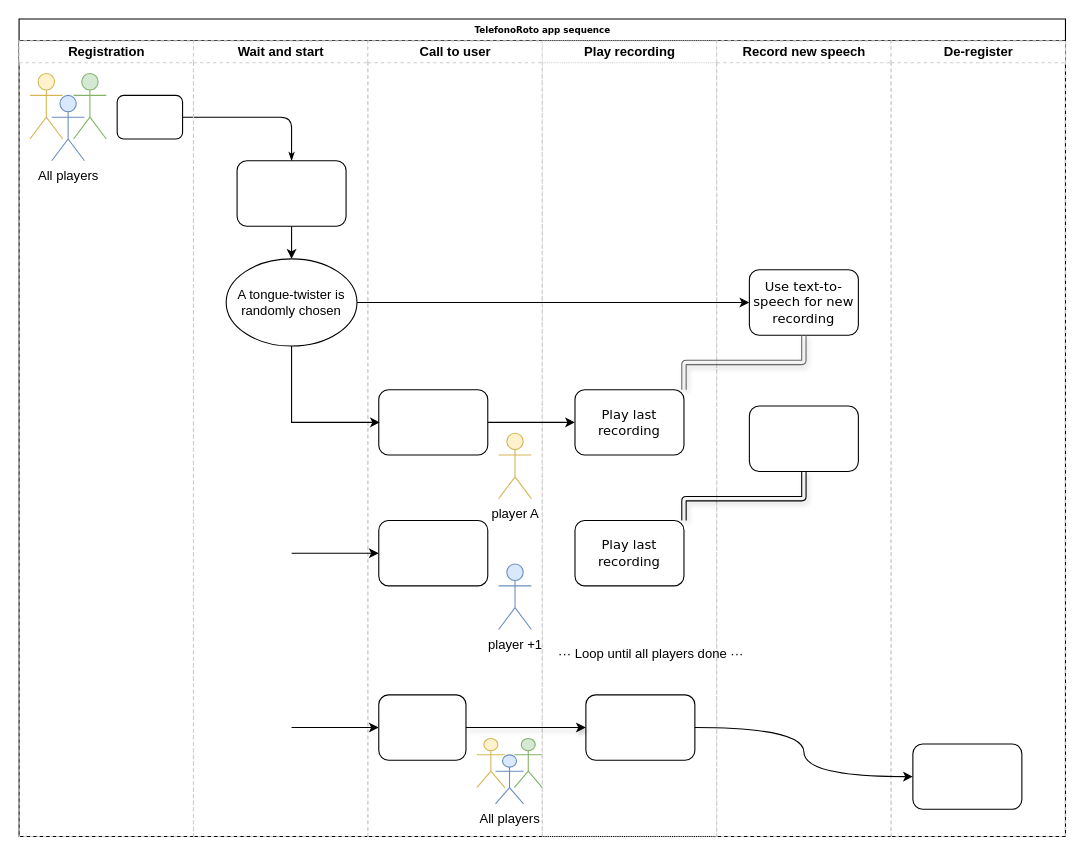
This 1085x856 diagram has some shape labels left out. The centre of each missing label's shape, as x and y in pixels:
"Call all players" goes at pixel 422 727.
"Call first registered" goes at pixel 433 422.
"Call next player" goes at pixel 433 552.
"De-register all users" goes at pixel 967 776.
"Play first and last recording" goes at pixel 640 727.
"Record new message for next player" goes at pixel 803 438.
"Send an SMS" goes at pixel 149 116.
"Wait until quota or 15min from last registered" goes at pixel 291 193.
